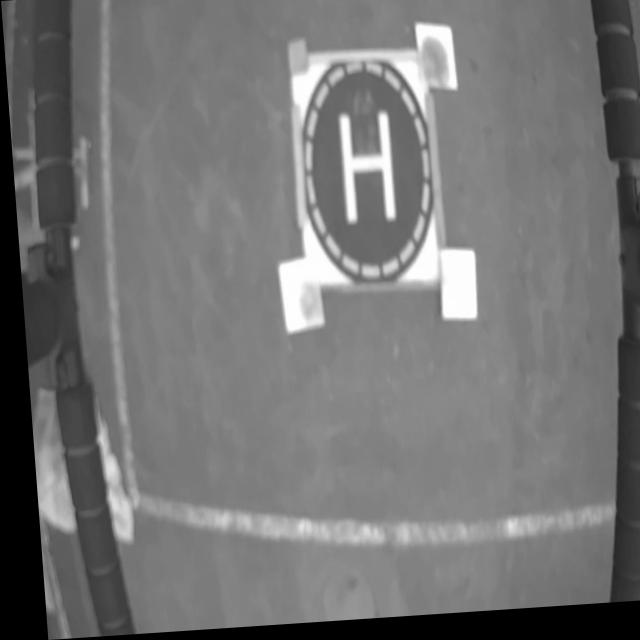Helipad: (337, 119, 391, 228)
